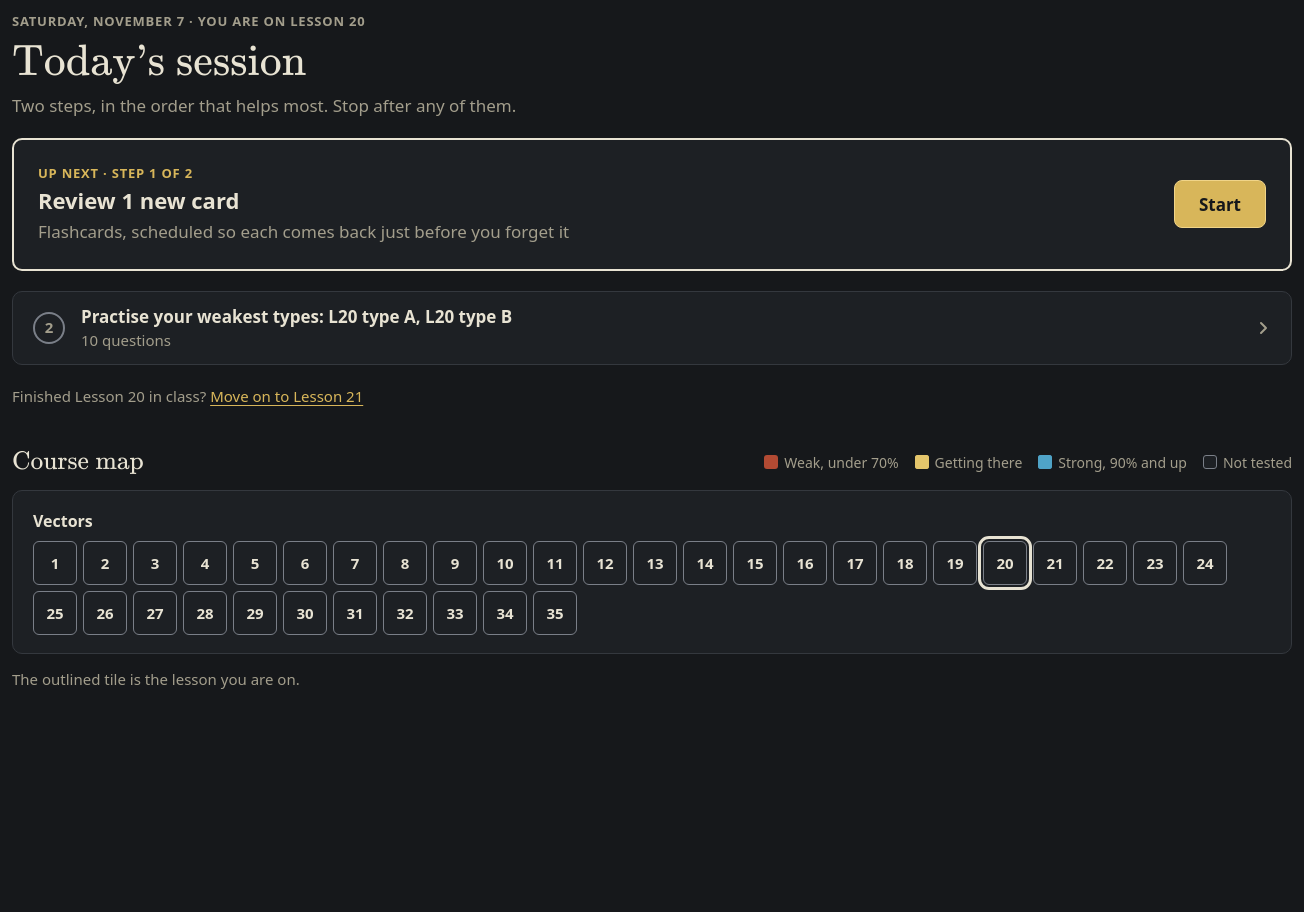
Test: "Move on" saves the next planned lesson as the current one
Expected: the heading "Today's session" is shown, [12,35,306,87]
Expected: the text "Finished Lesson 20 in class? Move on to Lesson 21" is shown, [12,373,363,419]
Click the button "Move on to Lesson 21" at (287, 396), box [210,373,363,419]
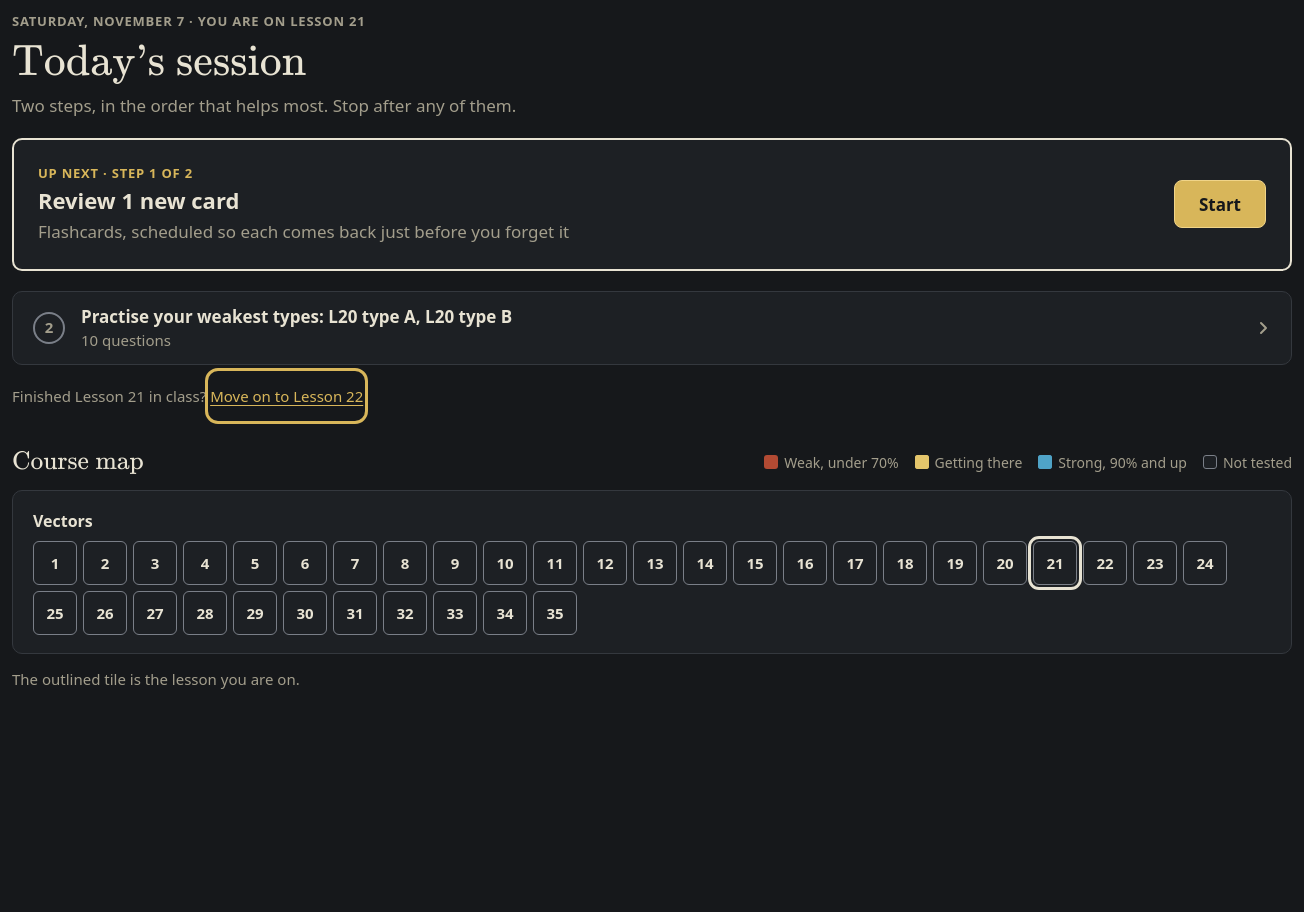
Expected: the button "Move on to Lesson 22" is shown, [210,373,363,419]
Expected: the text "Saturday, November 7 · You are on Lesson 21" is shown, [12,12,365,30]
